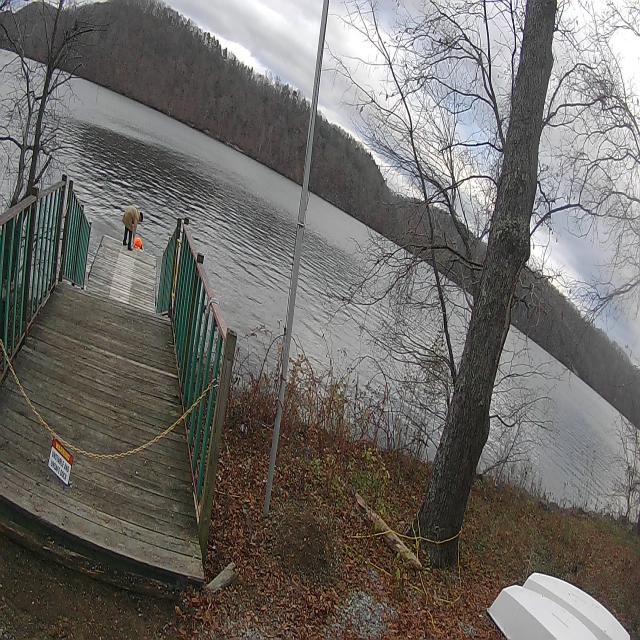Buoy: (134, 236, 144, 252)
